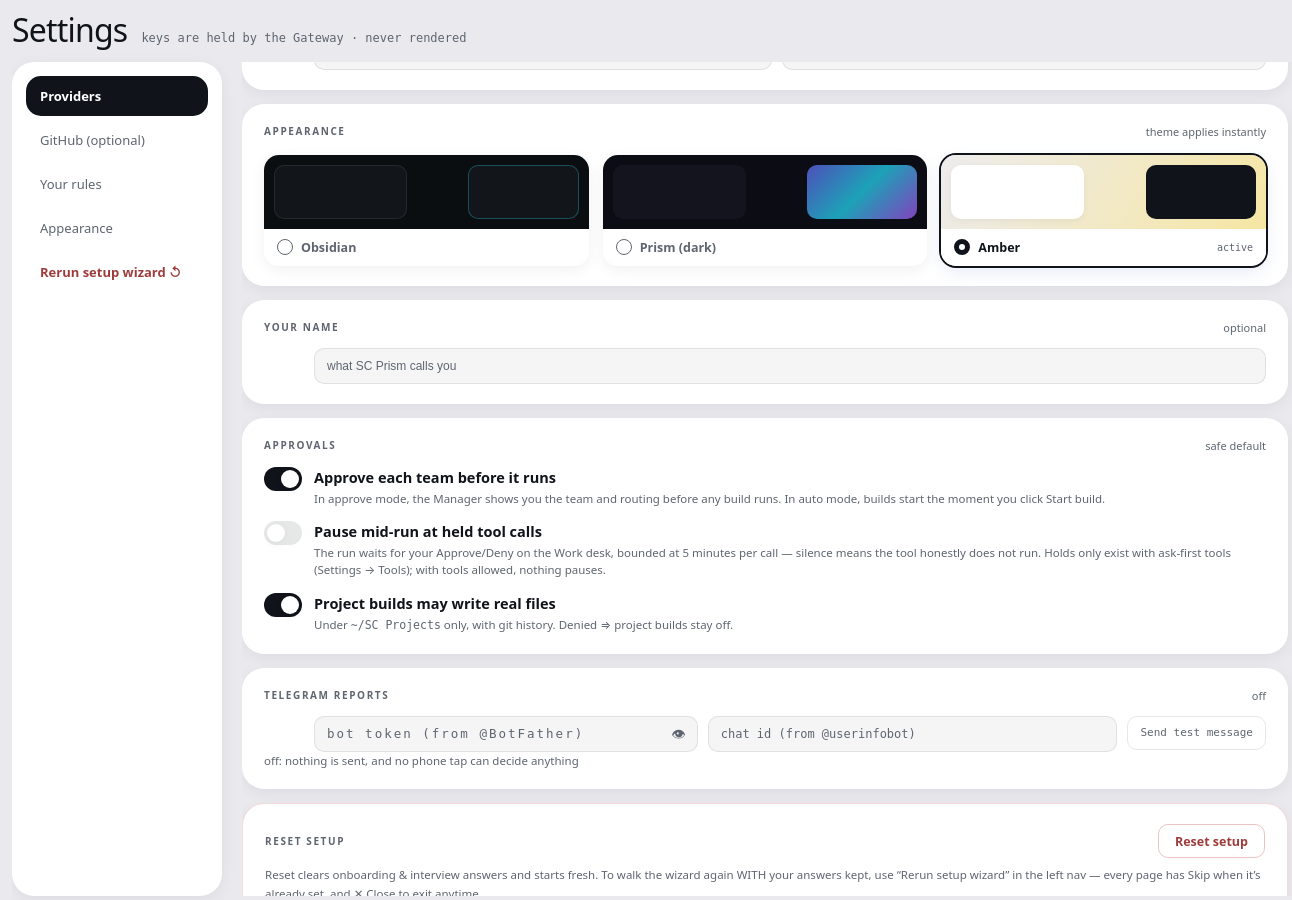
Settings — Approvals toggle (MV5) › clicking the toggle switches to auto, and back to approve
(page scrolled)
Click the switch named "approve each team before it runs" at coordinates (283, 479), box [264,467,302,491]
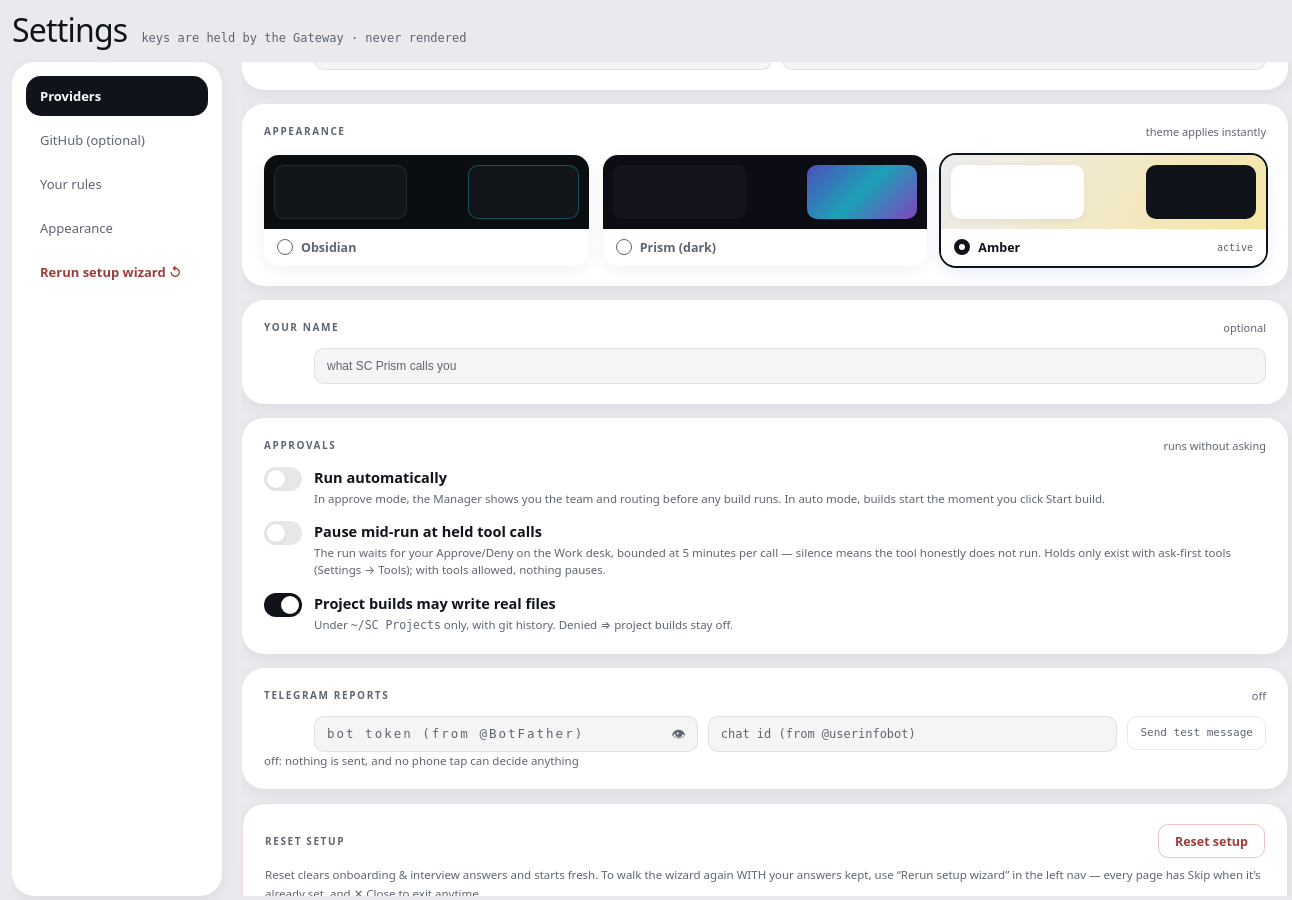
Expected: the text "Run automatically" is shown, [314,467,447,487]
Click the switch named "approve each team before it runs" at coordinates (283, 479), box [264,467,302,491]
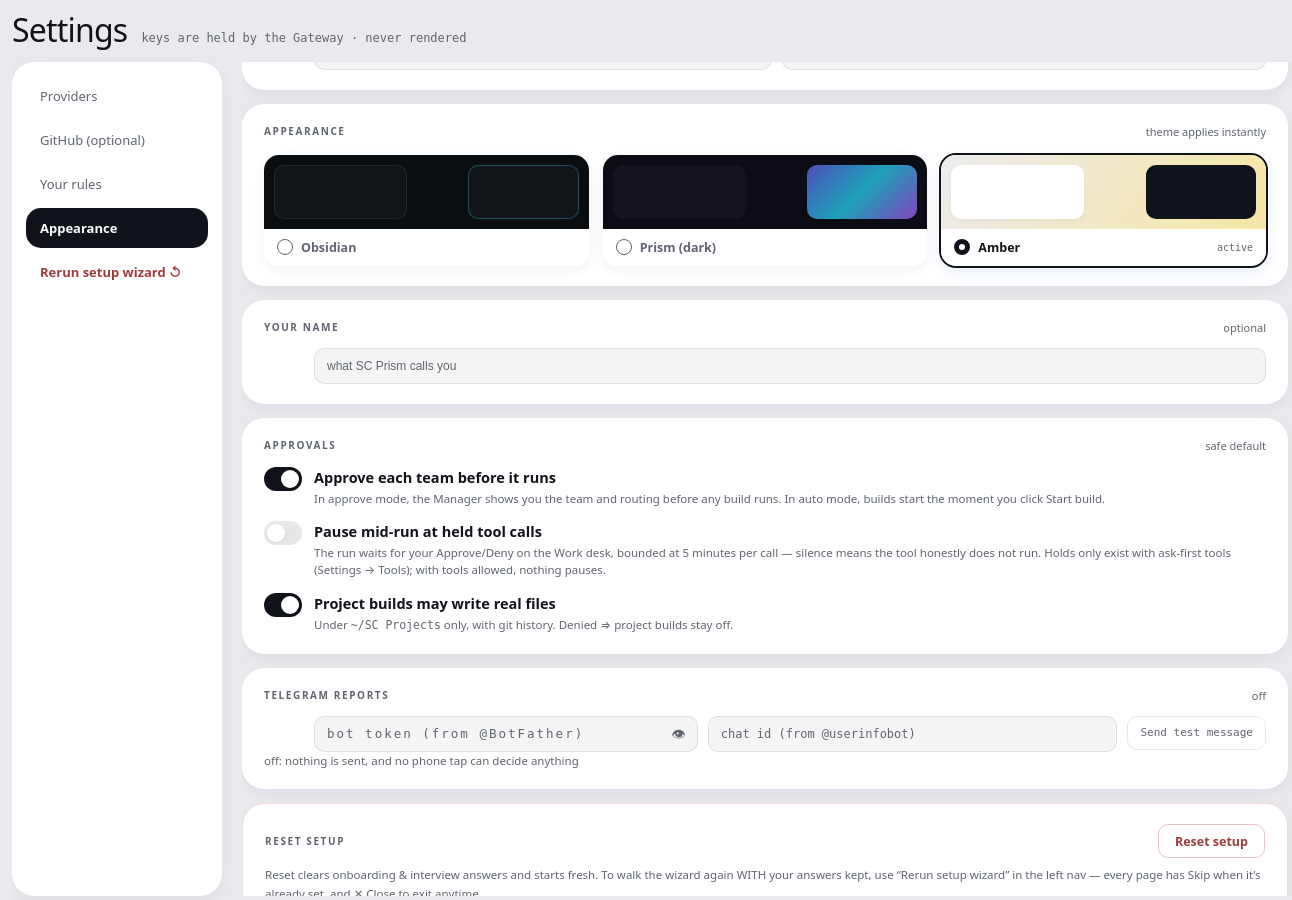
Expected: the text "Approve each team before it runs" is shown, [314,467,556,487]
